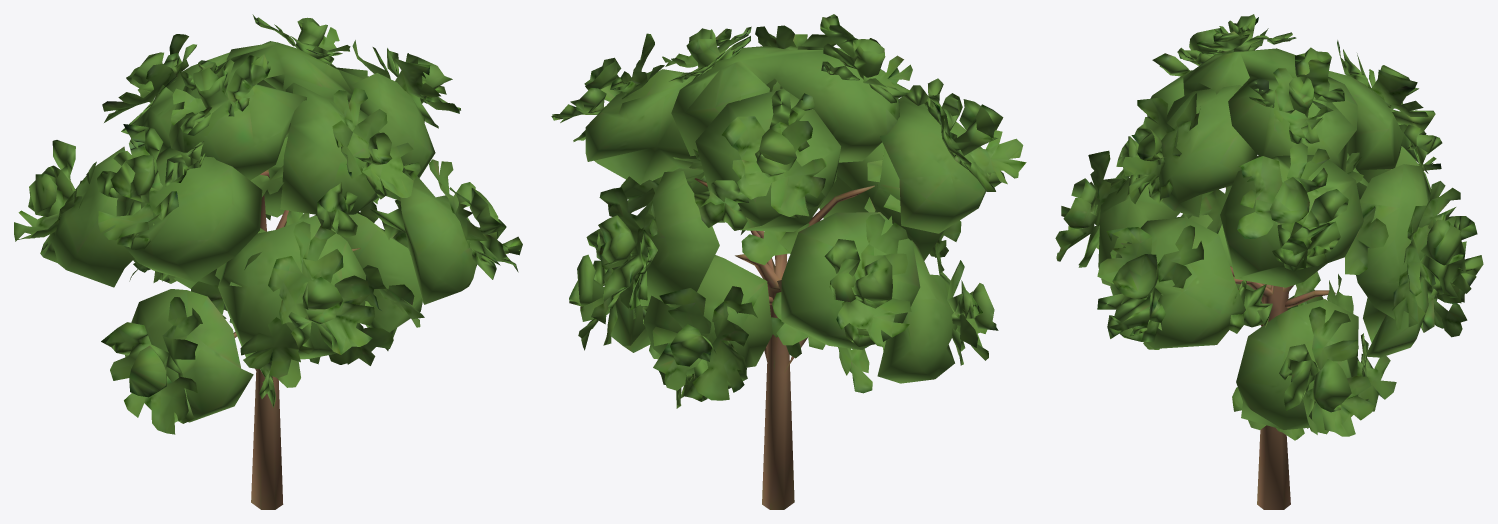
File: tree.glb
3 renders of one model, left to right at view 1: azimuth 30°, elevation 25°; view 2: azimuth 150°, elevation 25°; view 3: azimuth 270°, elevation 25°, orthographic. The views are drawn at different scales.
Visible parts, largest first — view 1: tripo_node_596c3424-7e3f-42e7-a287-a2c10b5de348; view 2: tripo_node_596c3424-7e3f-42e7-a287-a2c10b5de348; view 3: tripo_node_596c3424-7e3f-42e7-a287-a2c10b5de348.
Part boxes in pixels (x1,y1,x2,y2): tripo_node_596c3424-7e3f-42e7-a287-a2c10b5de348: [14, 14, 522, 509]; tripo_node_596c3424-7e3f-42e7-a287-a2c10b5de348: [551, 14, 1026, 509]; tripo_node_596c3424-7e3f-42e7-a287-a2c10b5de348: [1055, 14, 1483, 509].
Bounding box in the file's own units: 0.8847 × 0.998 × 0.838.
Materials: 1 (1 with a texture image).
